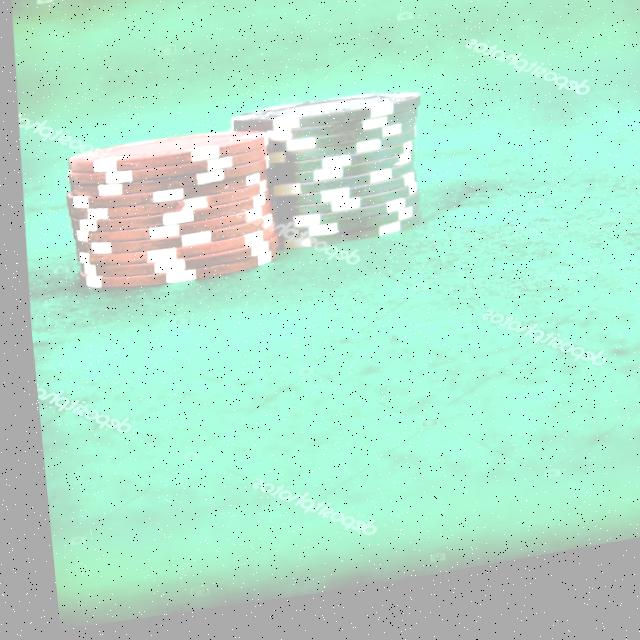Chip: (43, 114, 291, 324), (202, 74, 445, 288)
